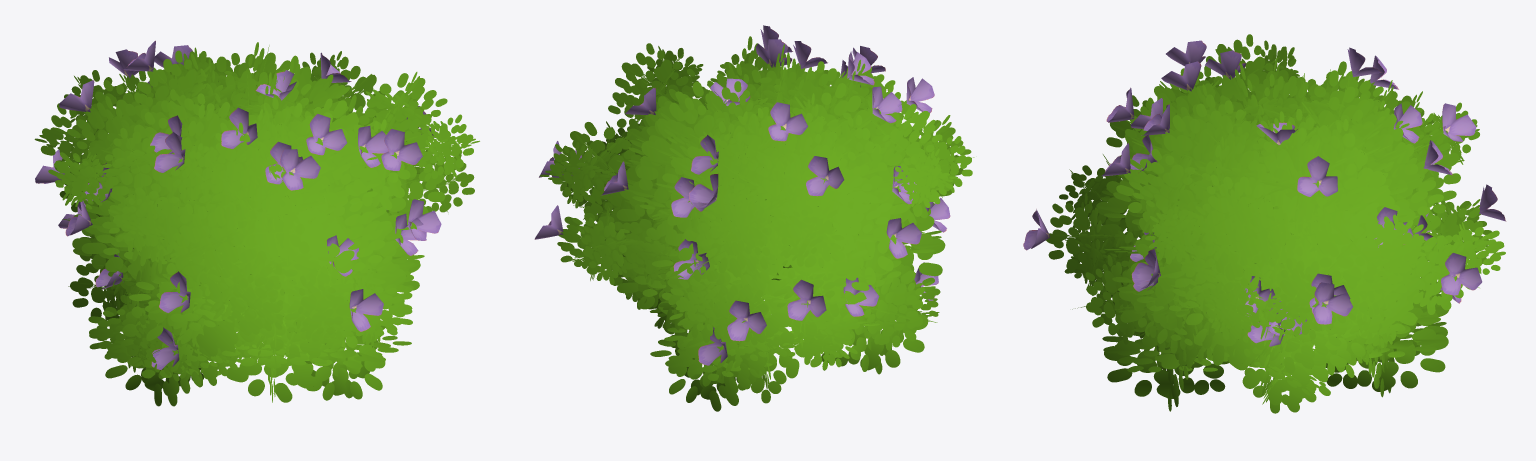
Rendered from Bush_Common_Flowers.gltf.
3 renders of one model, left to right at view 1: azimuth 30°, elevation 25°; view 2: azimuth 150°, elevation 25°; view 3: azimuth 270°, elevation 25°, orthographic. The views are drawn at different scales.
Parts seen in each view (by area): view 1: Bush_Common_Flowers; view 2: Bush_Common_Flowers; view 3: Bush_Common_Flowers.
Boxes of the visible parts, x1,y1,x2,y2 form: Bush_Common_Flowers: [34, 40, 479, 406]; Bush_Common_Flowers: [534, 25, 974, 411]; Bush_Common_Flowers: [1023, 34, 1506, 413].
Size of the model in its own units: 1.91 by 1.58 by 1.97.
2 materials, 2 textured.
